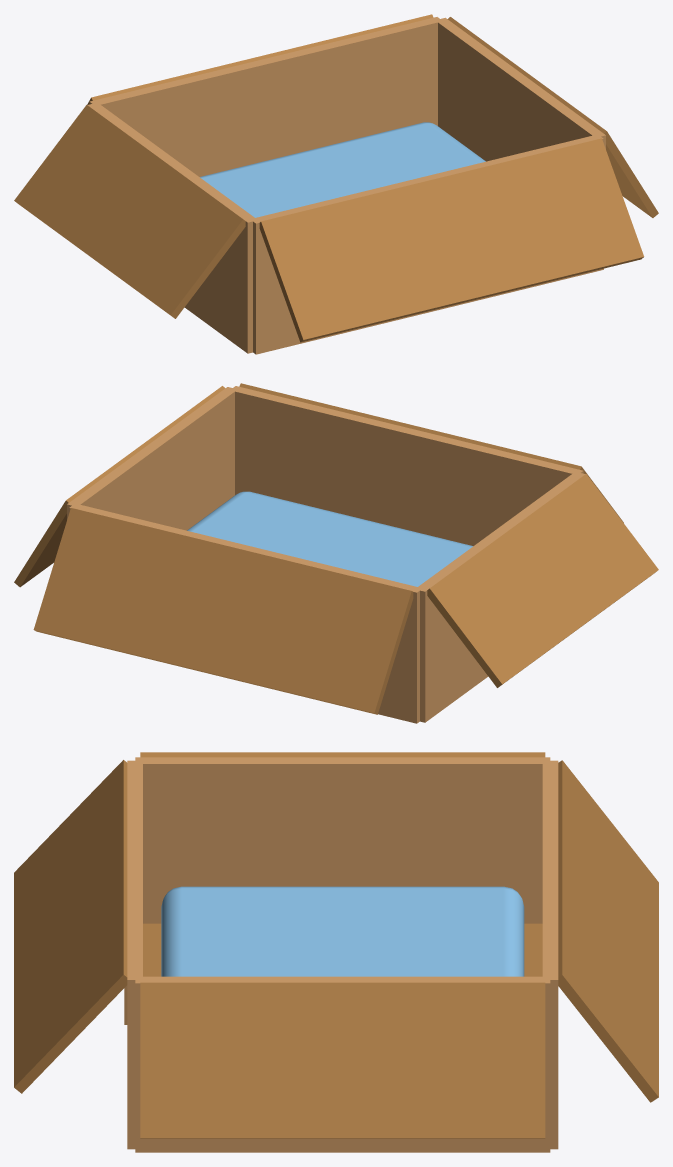
File: catbed-box.glb
3 renders of one model, top to bottom at view 1: azimuth 30°, elevation 25°; view 2: azimuth 150°, elevation 25°; view 3: azimuth 270°, elevation 25°, orthographic. The views are drawn at different scales.
Size of the model in its own units: 1.4 by 0.367 by 1.24.
